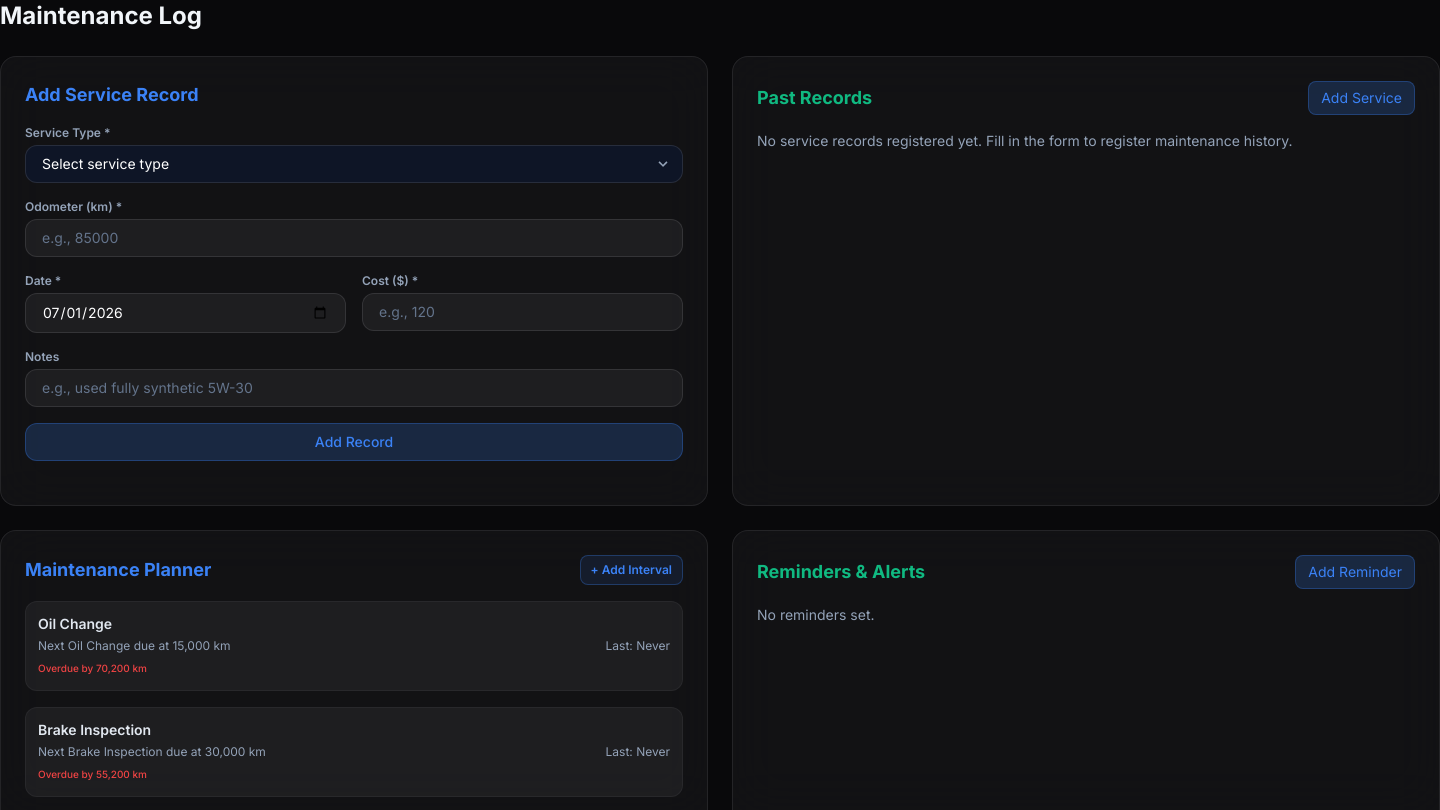
Test case: ServiceView Adversarial & Robustness Tests › validates date boundaries: rejects future date and accepts valid past/present date in modal
Open add service modal
Click the button "Add Service" at (1362, 98), box x1=1308 y1=81 x2=1415 y2=115
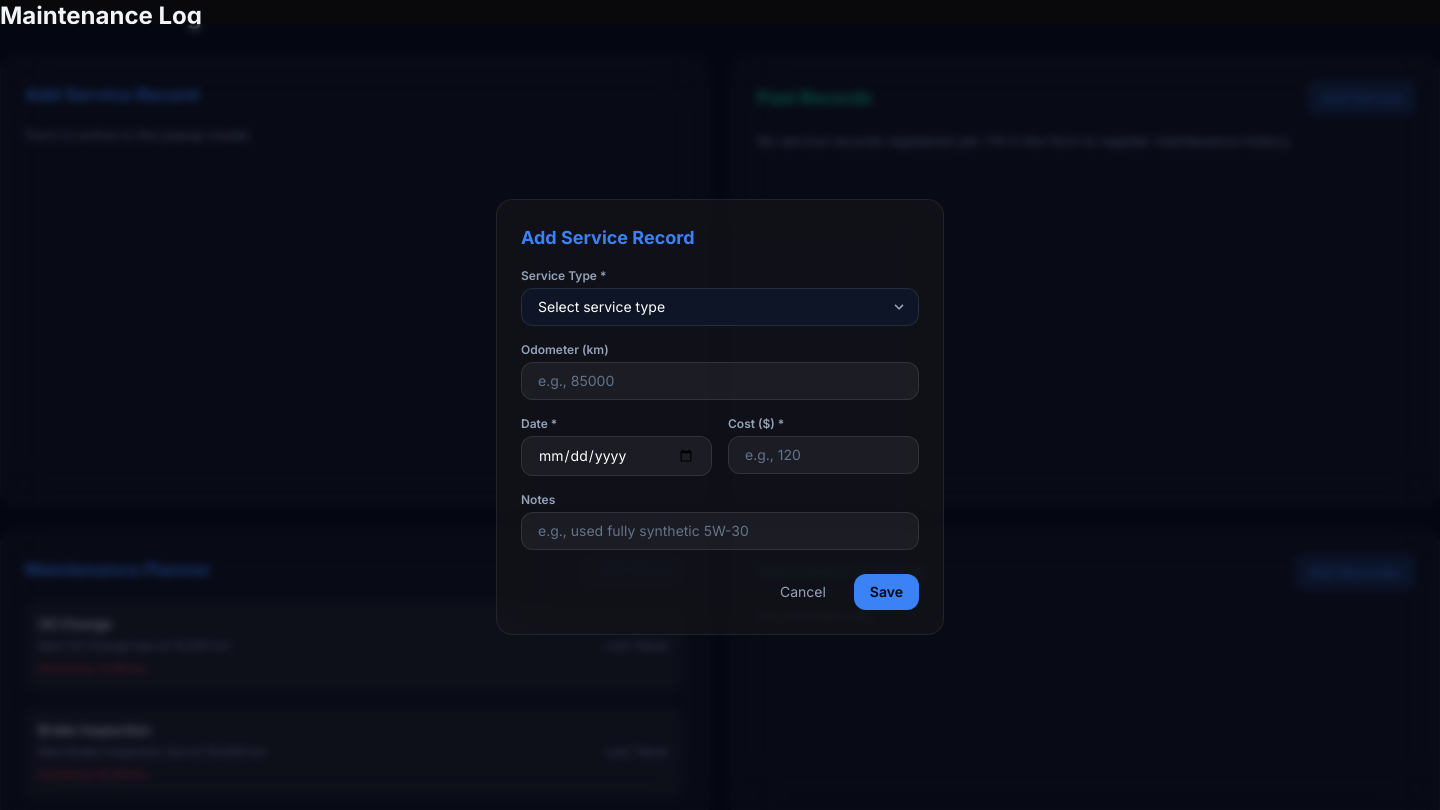
Check: the number of headings "Add Service Record" is 2, box x1=25 y1=84 x2=198 y2=105; x1=521 y1=227 x2=694 y2=248
Fill form in modal with future date
Select "Oil Change" in the dropdown labelled "Service Type *" at (720, 307), box x1=521 y1=288 x2=919 y2=326
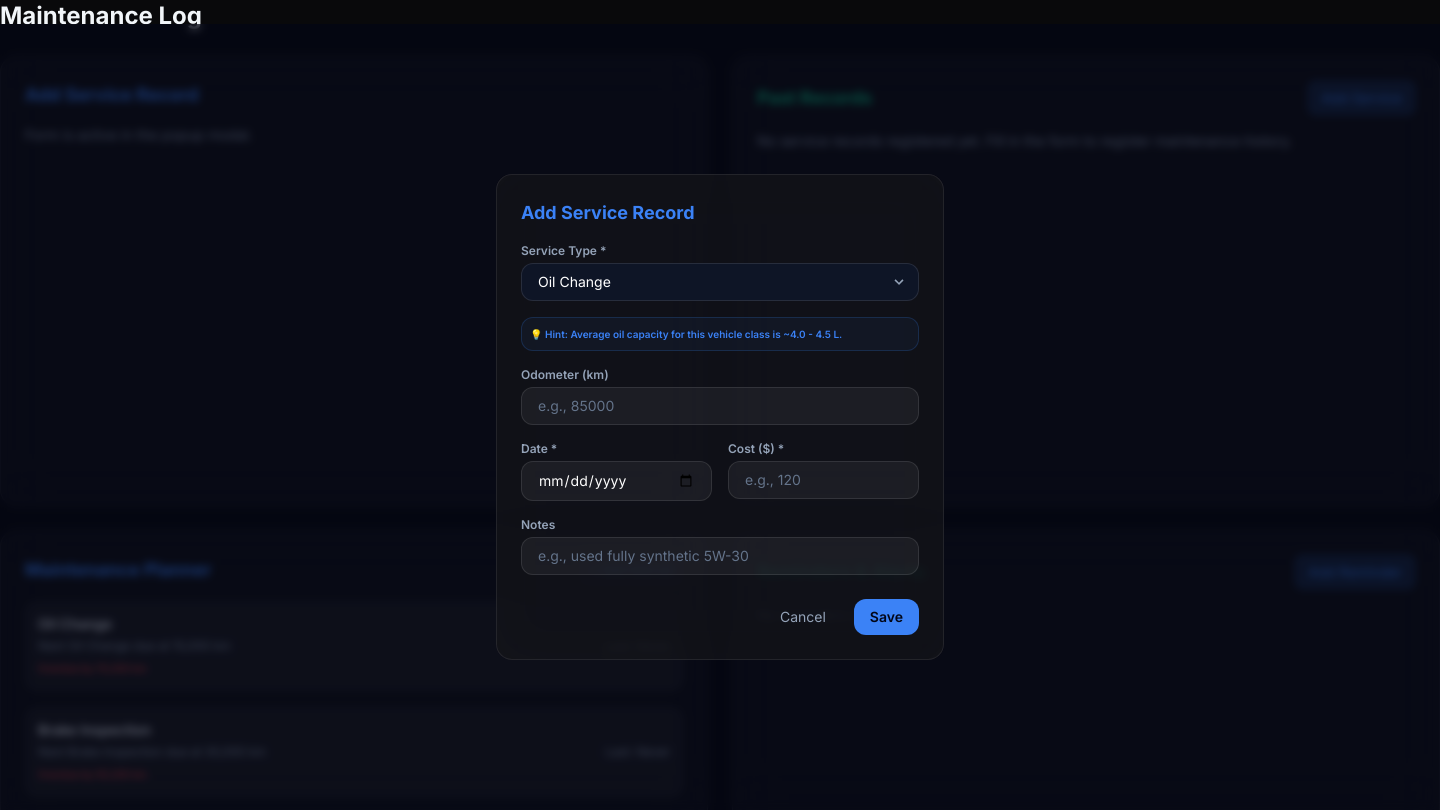
Type "2035-12-31" into the date field labelled "Date *" at (616, 481), box x1=521 y1=461 x2=712 y2=501
Type "150" into the number field labelled "Cost ($) *" at (824, 480), box x1=728 y1=461 x2=919 y2=499
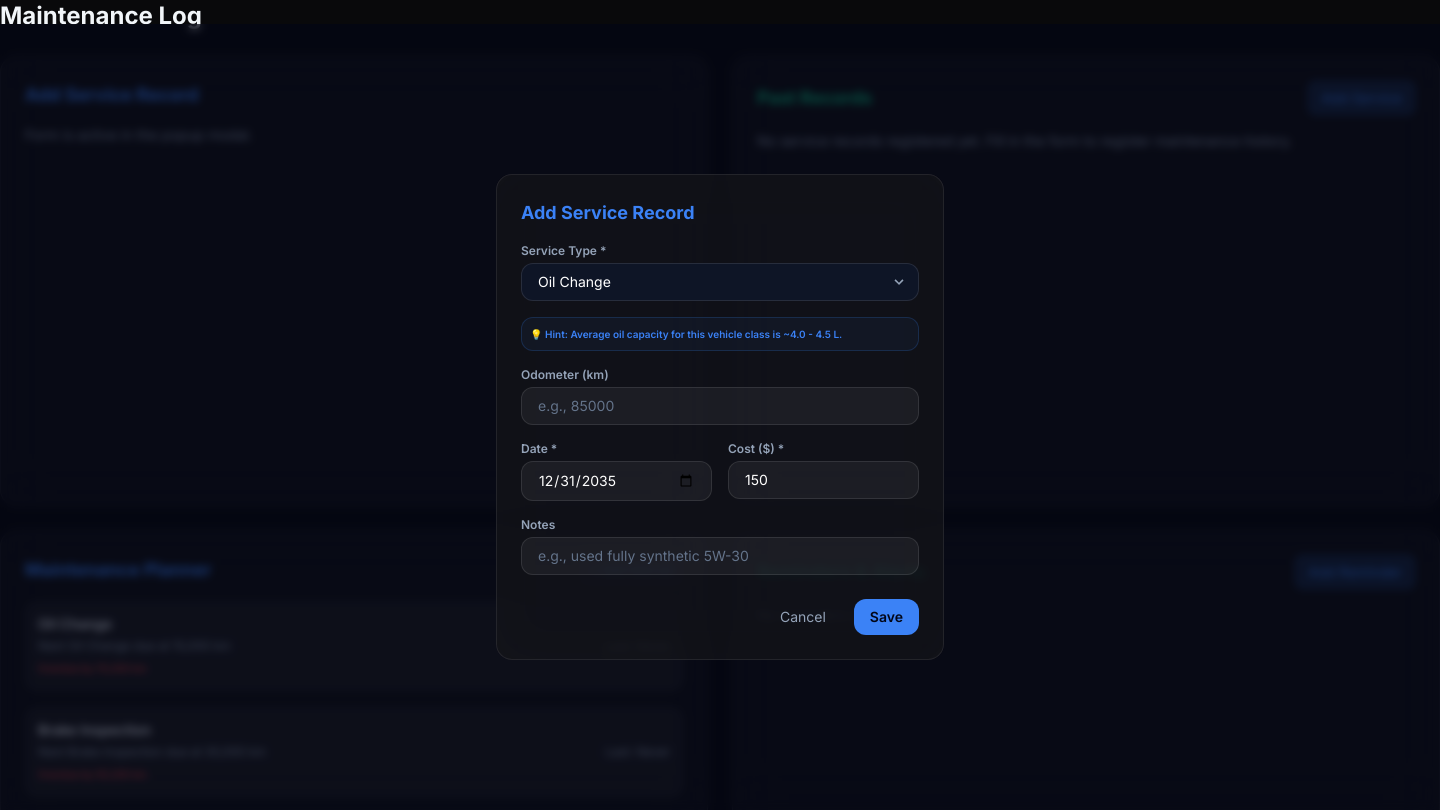
Click the button "Save" at (886, 617), box x1=854 y1=599 x2=919 y2=635
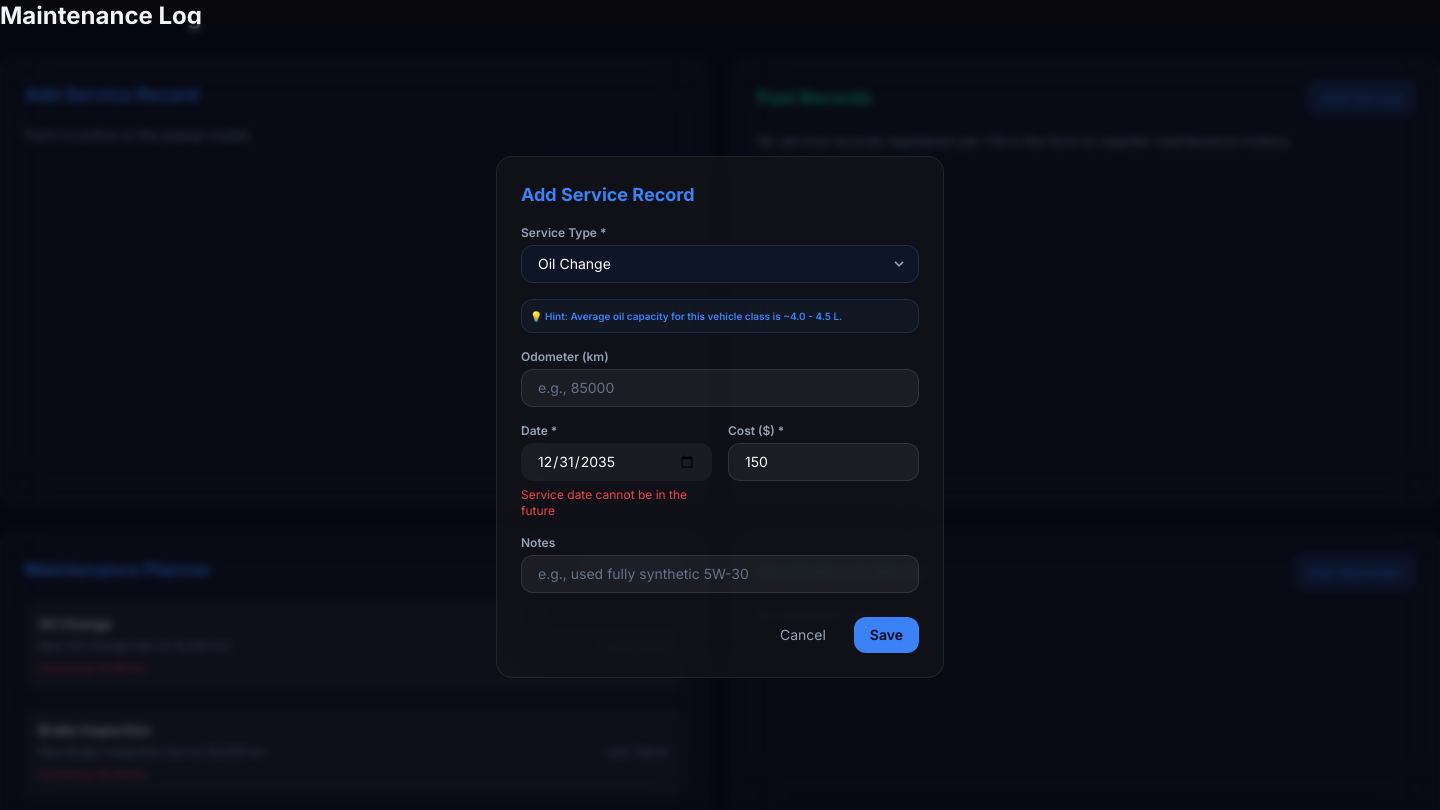
Check: the text "Service date cannot be in the future" is shown, box x1=521 y1=487 x2=712 y2=519
Now correct the date to today/present
Type "2026-07-01" into the date field labelled "Date *" at (616, 462), box x1=521 y1=443 x2=712 y2=481
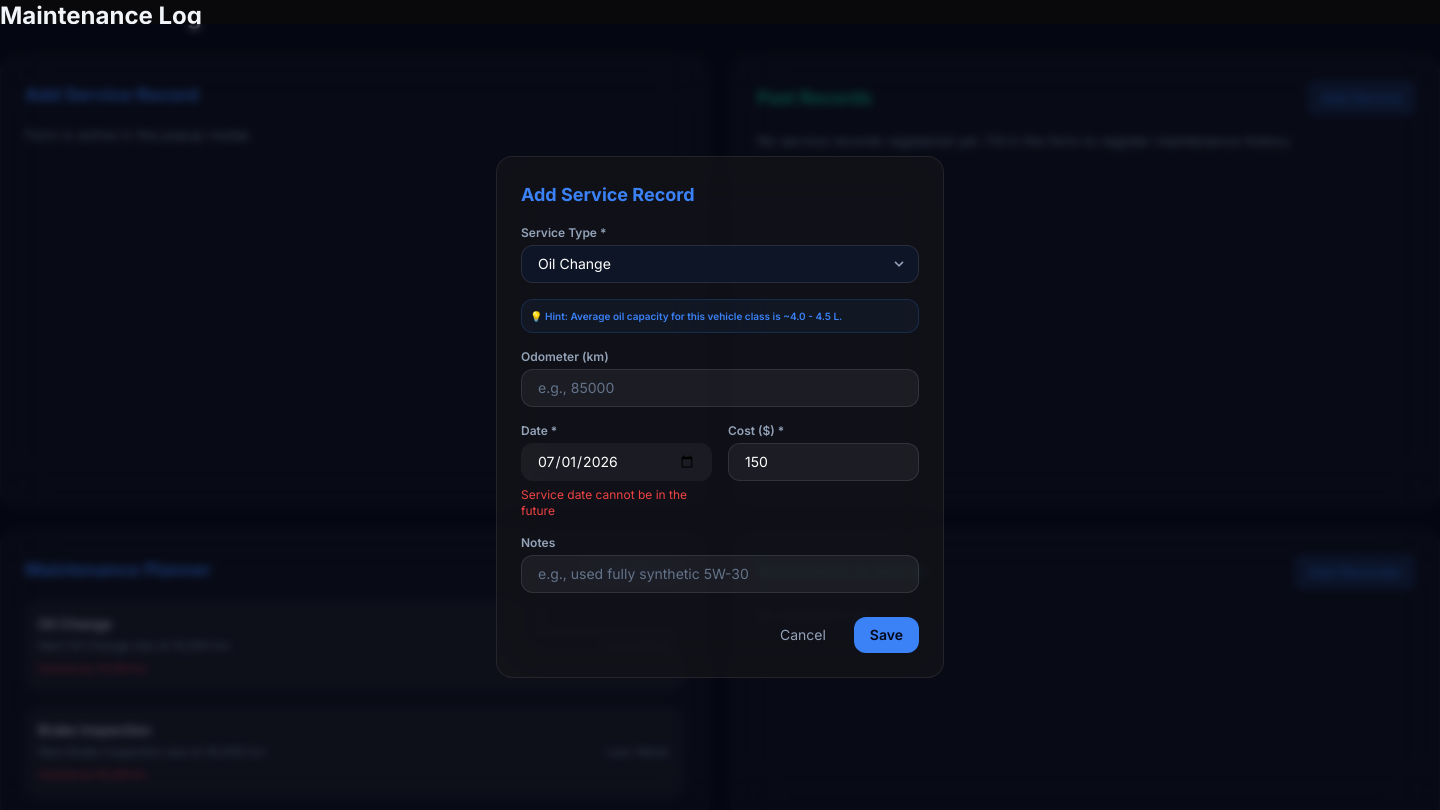
Click the button "Save" at (886, 635), box x1=854 y1=617 x2=919 y2=653
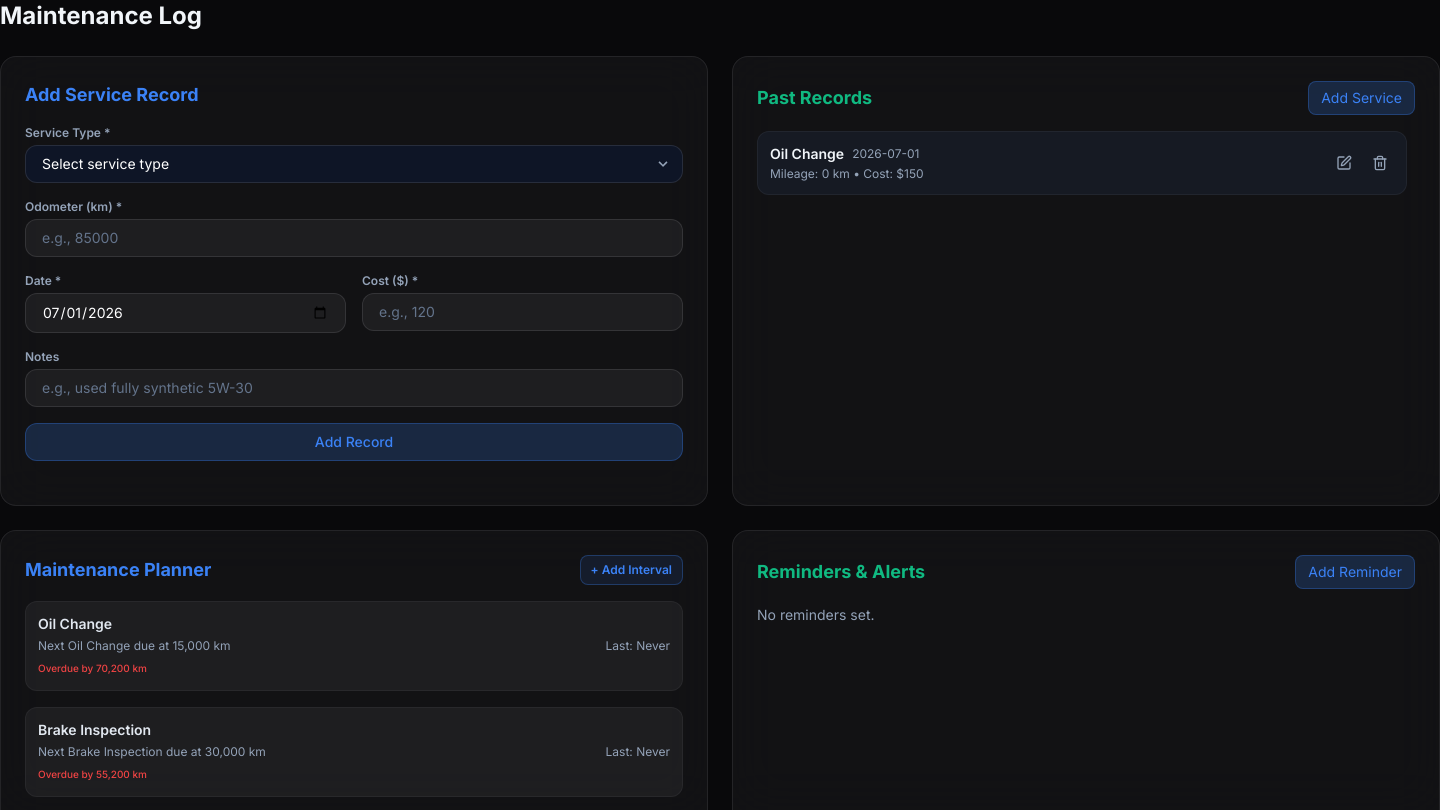
Check: the heading "Past Records" is shown, box x1=757 y1=84 x2=872 y2=112
Check: the number of headings "Add Service Record" is 1, box x1=25 y1=84 x2=198 y2=105
